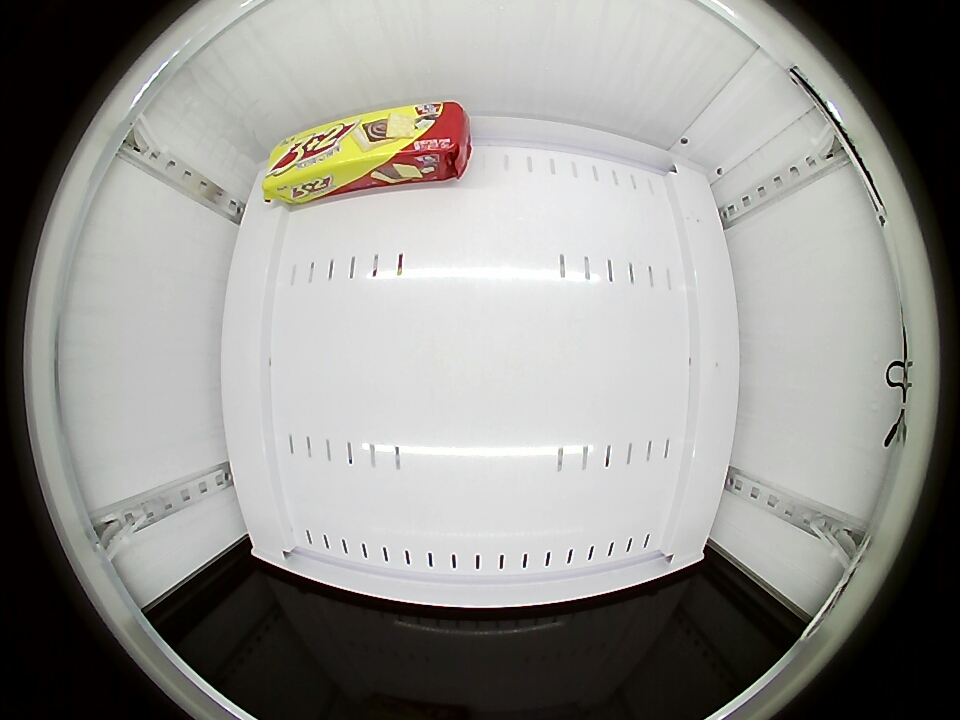3jia2: (263, 103, 466, 195)
